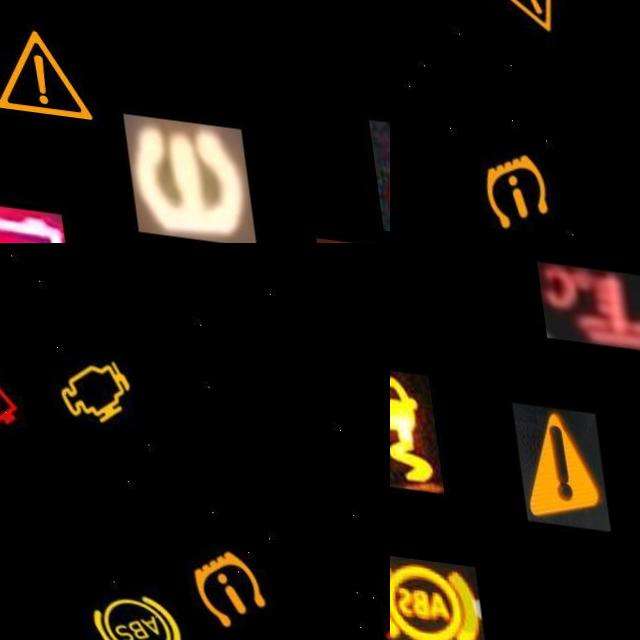Central Warning lamp: (0, 4, 103, 134), (504, 393, 600, 520)
Engine cooling system: (533, 250, 640, 339)
